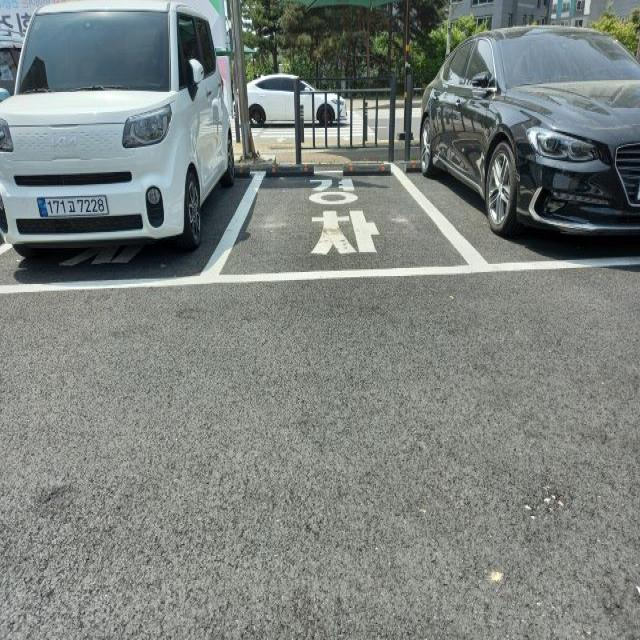Car: (0, 0, 236, 263), (414, 19, 640, 246)
Vacant: (238, 156, 418, 286)
